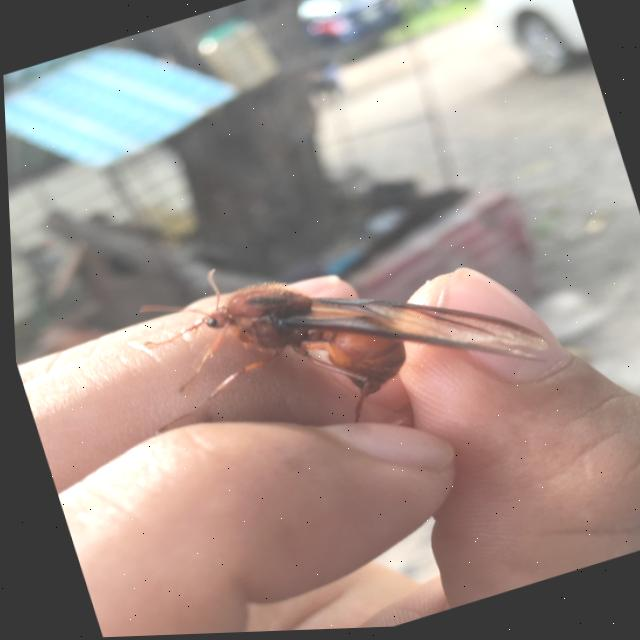Alive-Male-Alate: (106, 182, 554, 483)
